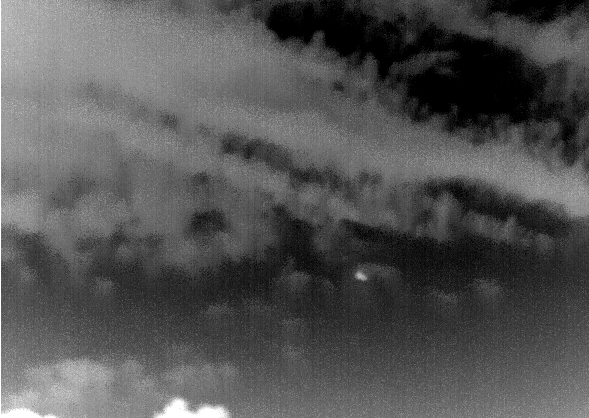dim target: (352, 271, 370, 283)
